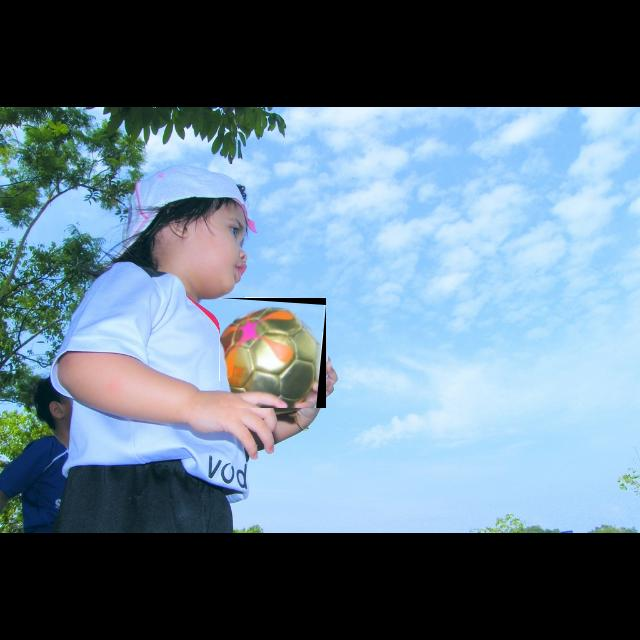Football: (220, 298, 326, 408)
